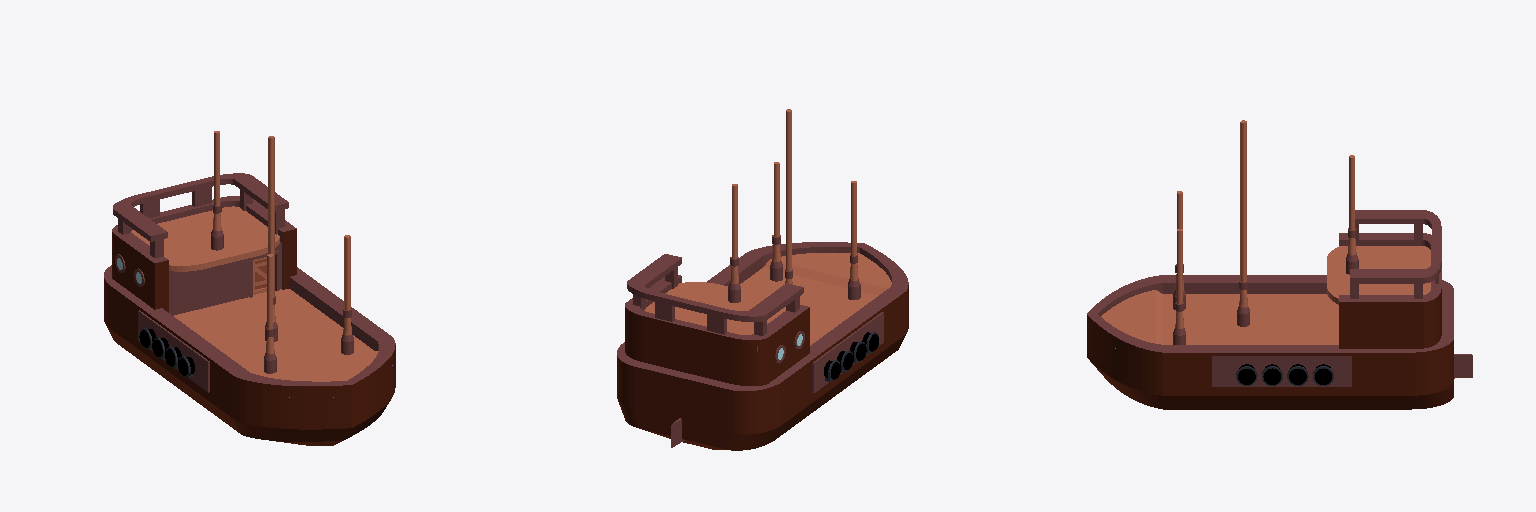
Rendered from player_ship_2_no_sail.obj.
3 renders of one model, left to right at view 1: azimuth 30°, elevation 25°; view 2: azimuth 150°, elevation 25°; view 3: azimuth 270°, elevation 25°, orthographic.
Visible parts, largest first — view 1: mergedBlocks; view 2: mergedBlocks; view 3: mergedBlocks.
Part boxes in pixels (left/top/right/bottom): mergedBlocks: left=104, top=131, right=395, bottom=445; mergedBlocks: left=617, top=109, right=908, bottom=450; mergedBlocks: left=1087, top=120, right=1472, bottom=409.
Size of the model in its own units: 3.3 by 4.59 by 6.06.